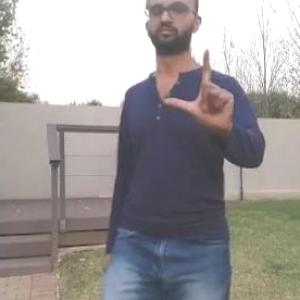land_hand: (156, 40, 235, 136)
